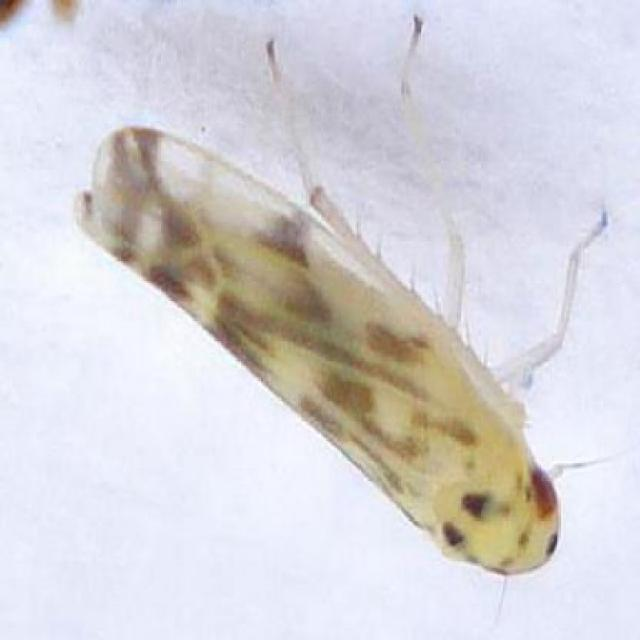green-leafhopper: (65, 18, 608, 579)
